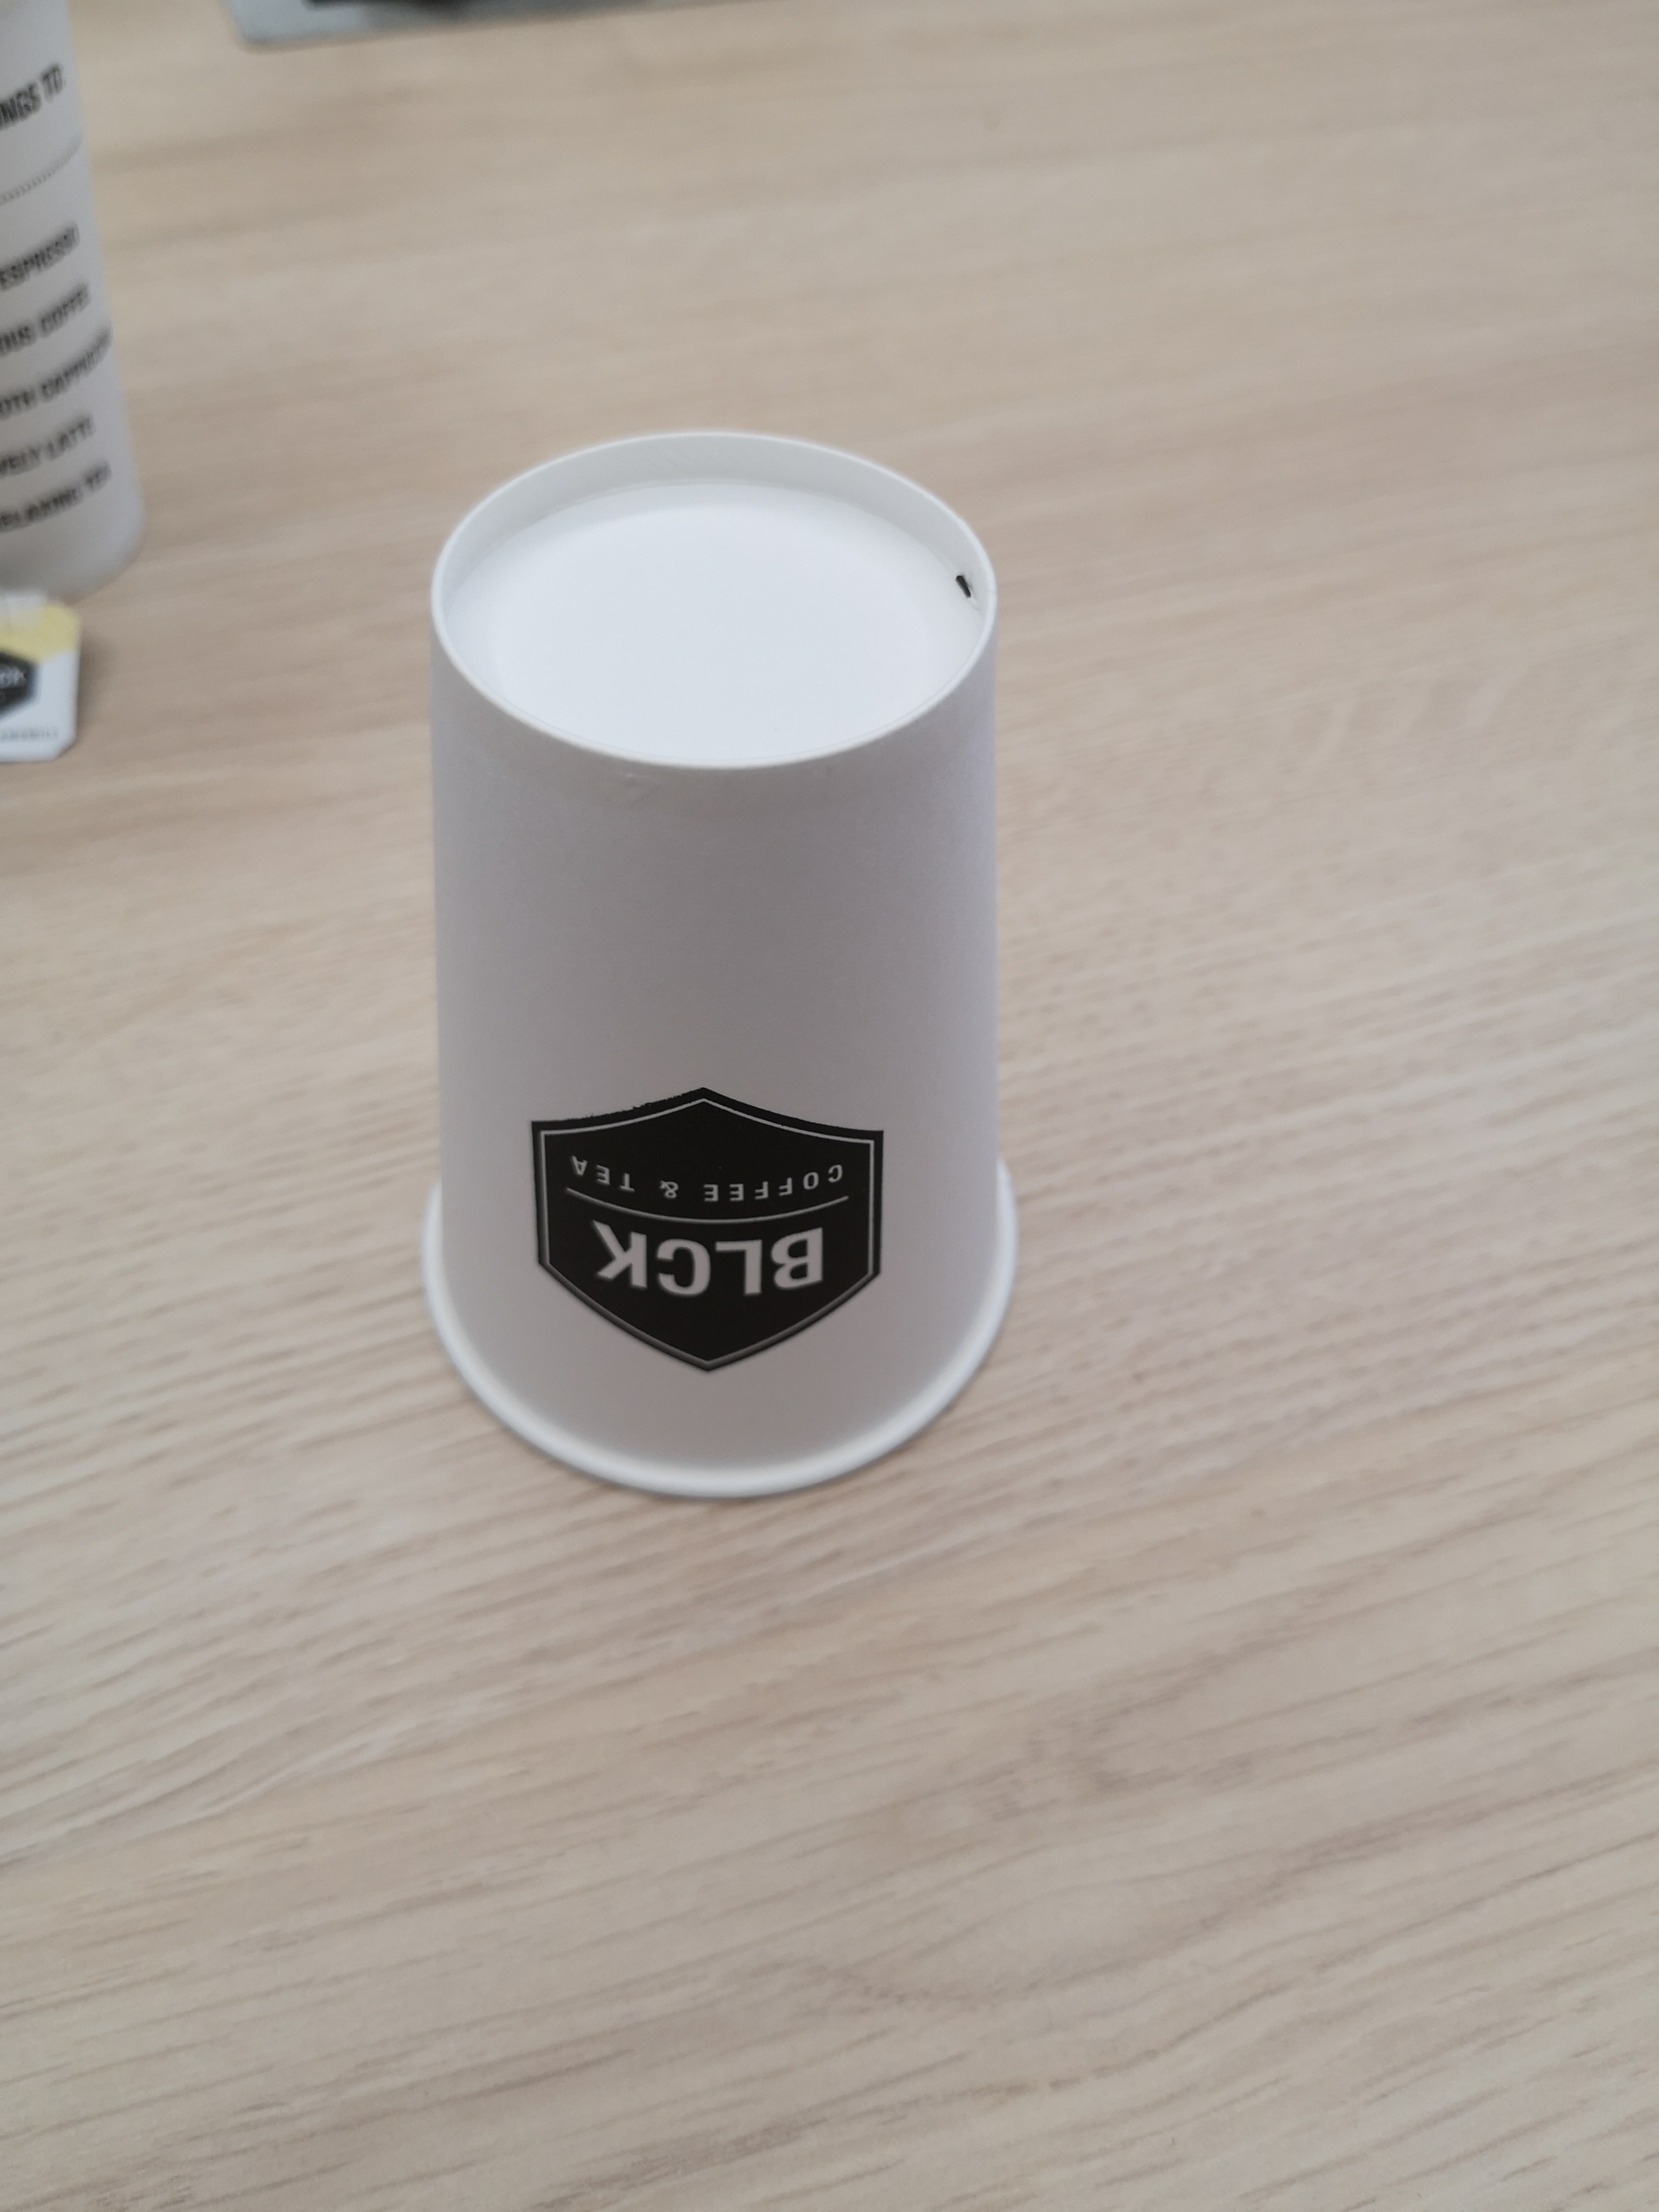cup: (390, 415, 1168, 1531)
